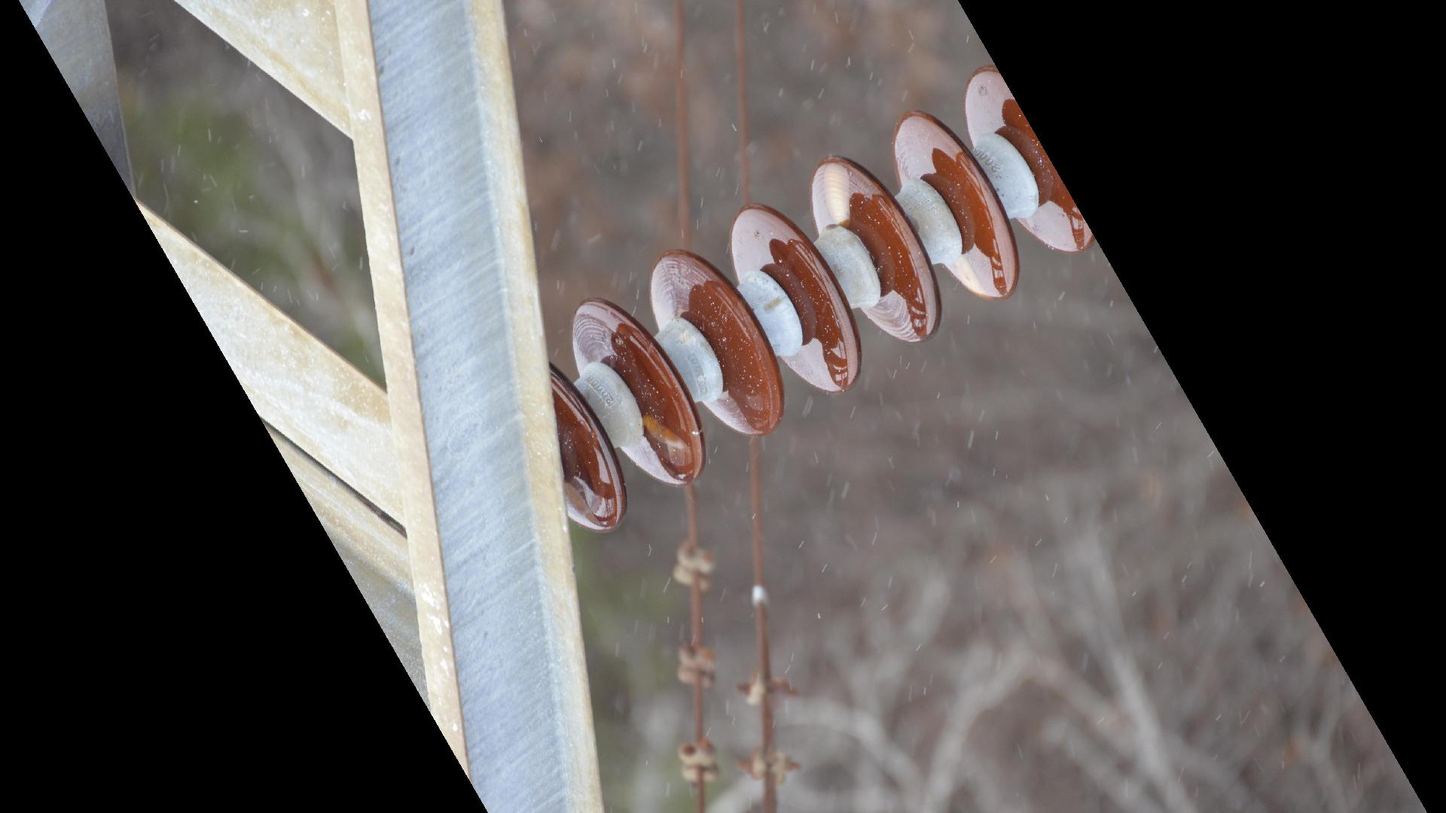insulator: (545, 63, 1097, 540)
insulator_flashover: (563, 481, 605, 534), (821, 160, 853, 229), (639, 411, 691, 453), (955, 251, 989, 300)
